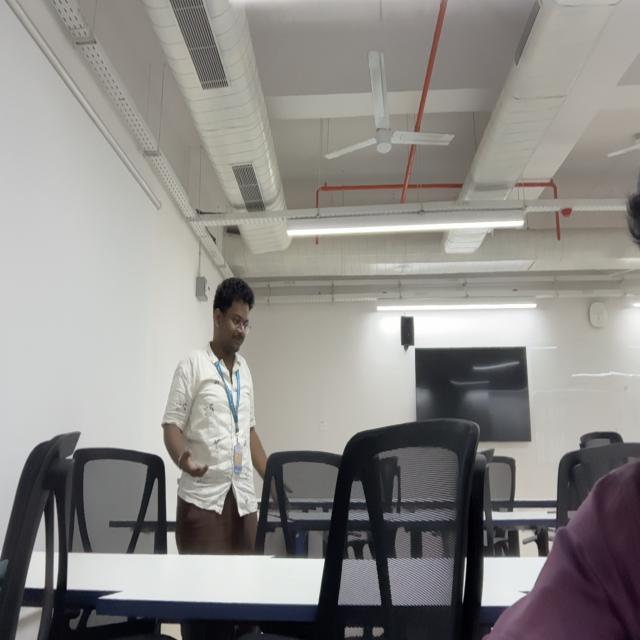sai: (214, 277, 252, 357)
